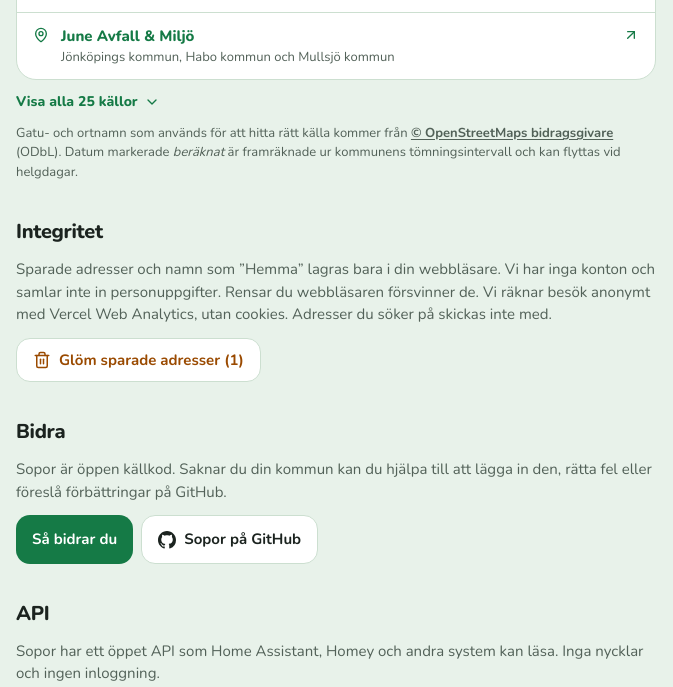
Test case: AboutPage › kan glömma sparade adresser under Integritet
(page scrolled)
What coordinates should you click on to do the following:
click the button "Glöm sparade adresser (1)"
I would click on:
 (138, 360)
Its box is [16,338,261,382].
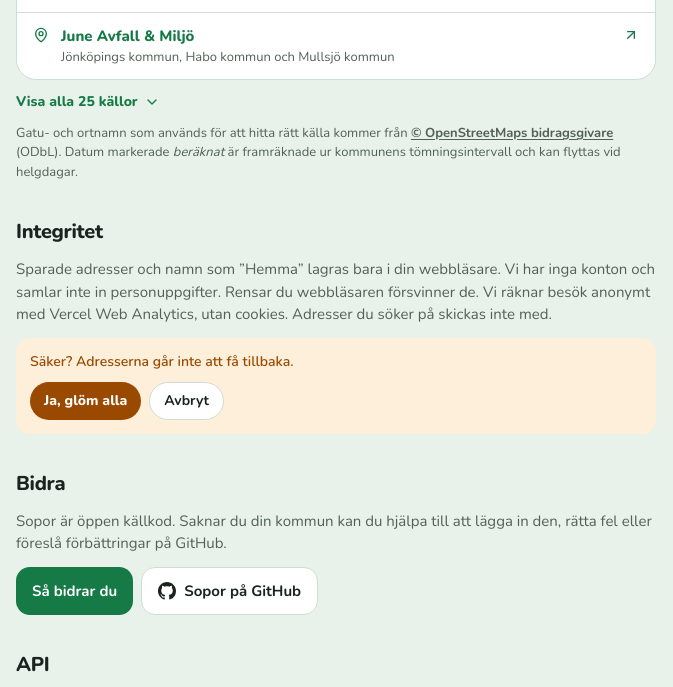
What coordinates should you click on to do the following:
click the button "Ja, glöm alla"
I would click on:
 (86, 401)
Its box is [30,382,141,420].
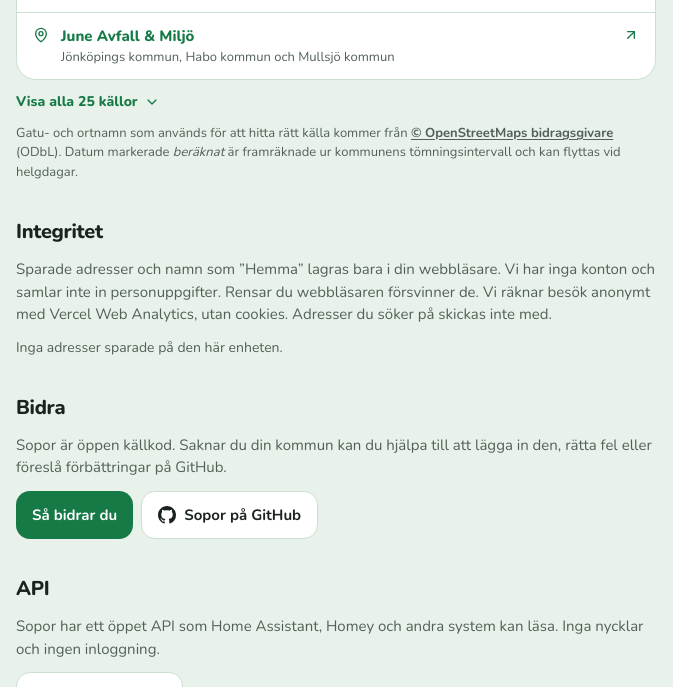
Result: the text "Inga adresser sparade på den här enheten." is shown at [16,338,283,357]
